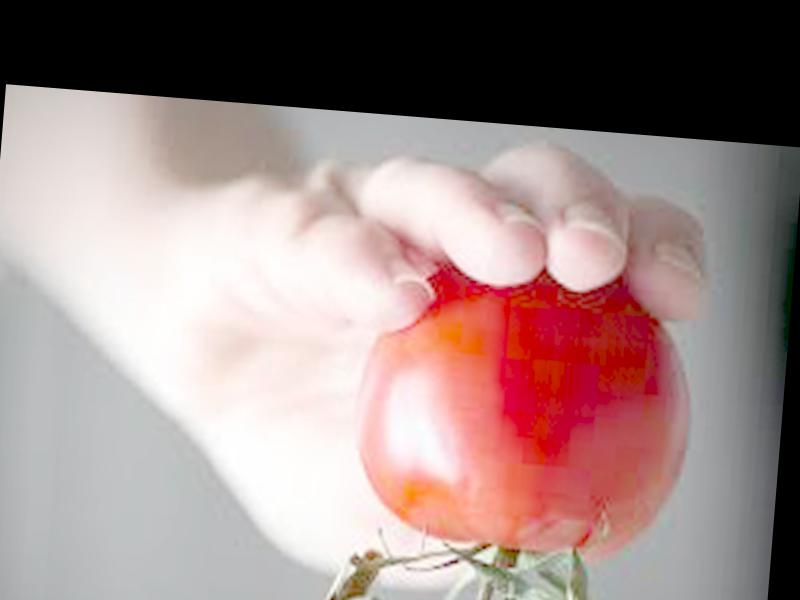Tomato: (348, 257, 701, 574)
